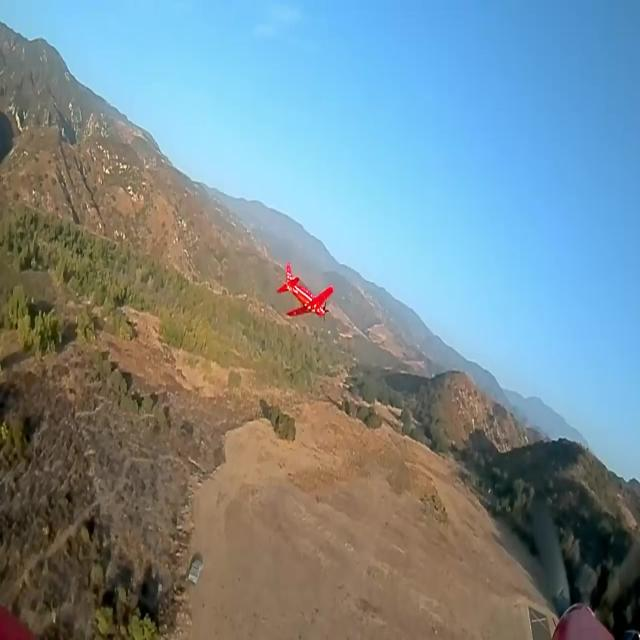iha: (277, 262, 334, 319)
